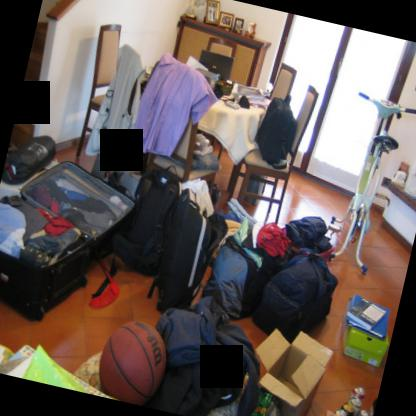backpack: (148, 311, 258, 416), (146, 189, 228, 316), (111, 165, 179, 276), (284, 216, 331, 255), (256, 221, 295, 258)
handbag: (257, 95, 297, 170)
suitcase: (0, 159, 136, 321)
